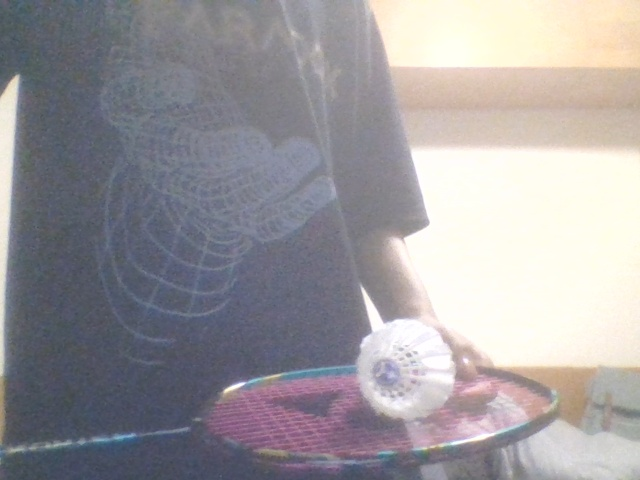human: (1, 1, 498, 423)
racket: (1, 363, 563, 470)
shuttle: (357, 317, 455, 419)
